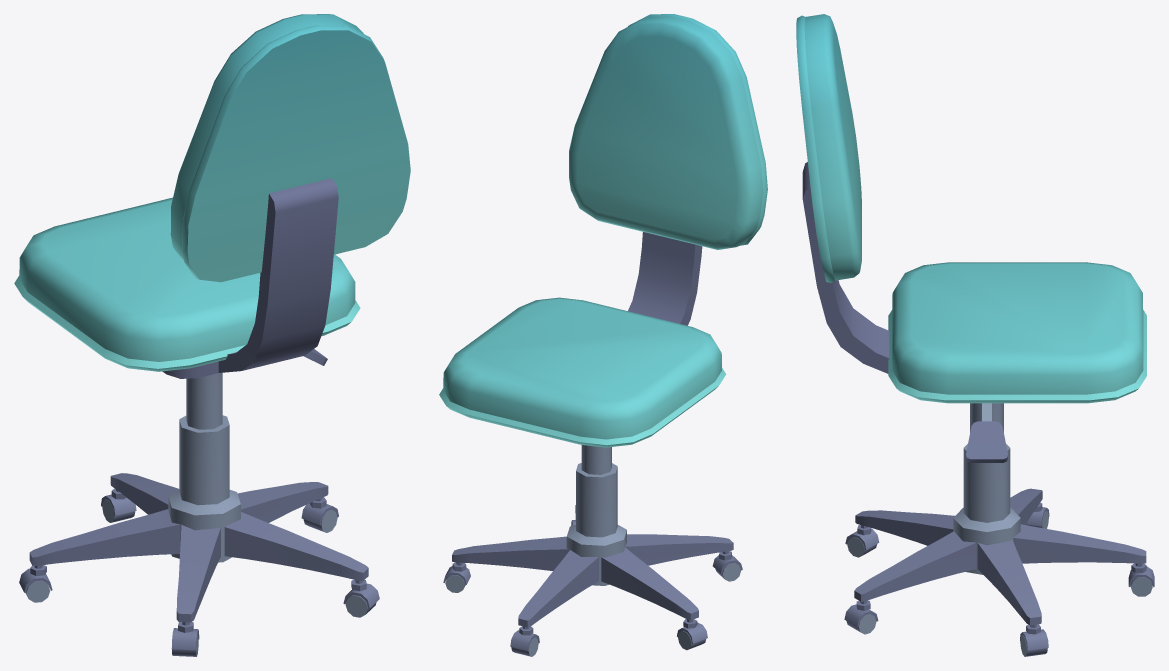
Rendered from chair.fbx.
3 views of the same model, side by side, from view 1: azimuth 30°, elevation 25°; view 2: azimuth 150°, elevation 25°; view 3: azimuth 270°, elevation 25° (orthographic). The views are drawn at different scales.
Visible parts, largest first — view 1: chair; view 2: chair; view 3: chair.
Part boxes in pixels (x1=…): chair: x1=14, y1=14, x2=410, y2=656; chair: x1=439, y1=14, x2=767, y2=656; chair: x1=796, y1=14, x2=1154, y2=656.
Bounding box in the file's own units: 96.45 × 185 × 106.
